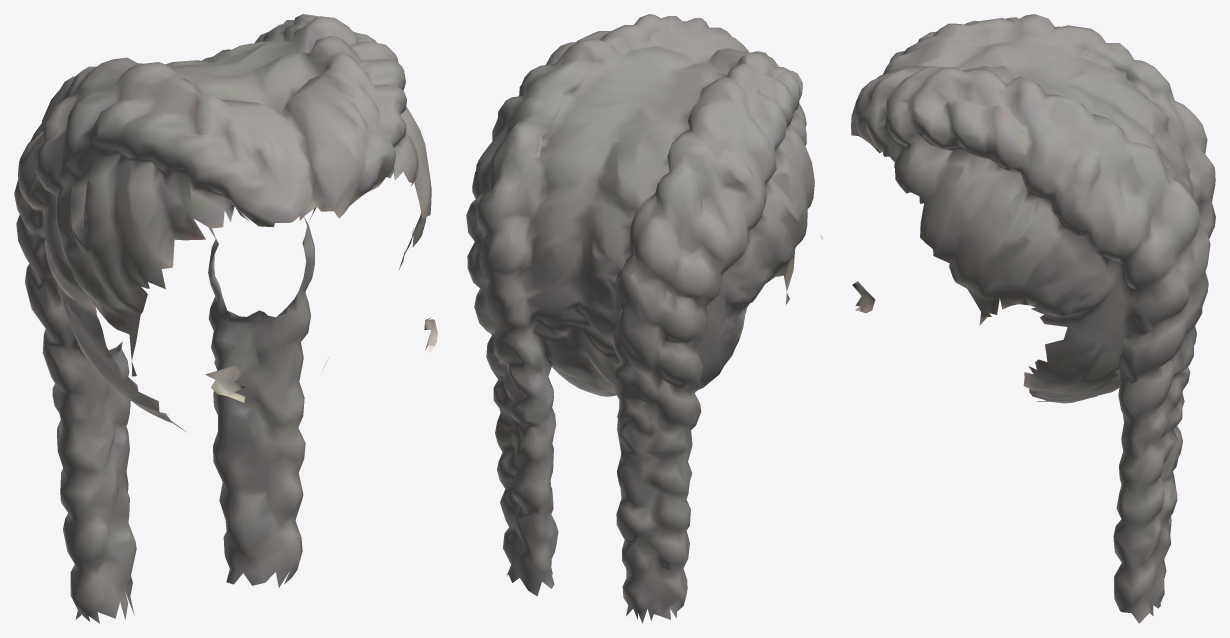
Rendered from hair-f-dutch-braids.glb.
The picture shows the model from 3 angles, left to right: view 1: azimuth 30°, elevation 25°; view 2: azimuth 150°, elevation 25°; view 3: azimuth 270°, elevation 25°; orthographic projection. The views are drawn at different scales.
Visible parts, largest first — view 1: hair-f-dutch-braids; view 2: hair-f-dutch-braids; view 3: hair-f-dutch-braids.
Boxes of the visible parts, <box> form: hair-f-dutch-braids: <box>14,14,437,623</box>; hair-f-dutch-braids: <box>466,14,822,623</box>; hair-f-dutch-braids: <box>851,14,1215,623</box>.
Size of the model in its own units: 0.8695 by 1.54 by 0.9526.
1 material, 1 textured.
